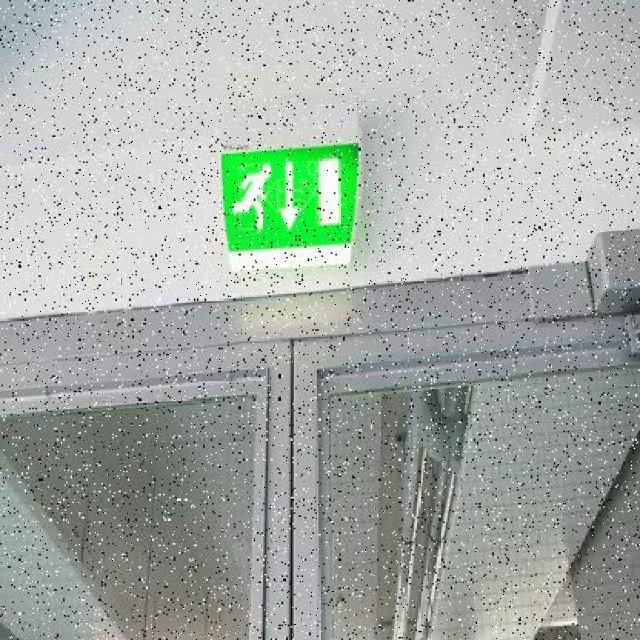emergency_exit: (219, 142, 361, 268)
